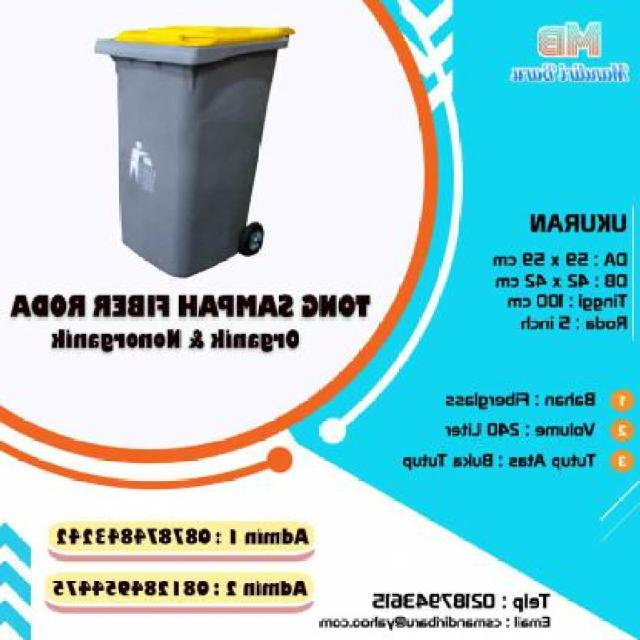garbage container: (77, 16, 298, 292)
